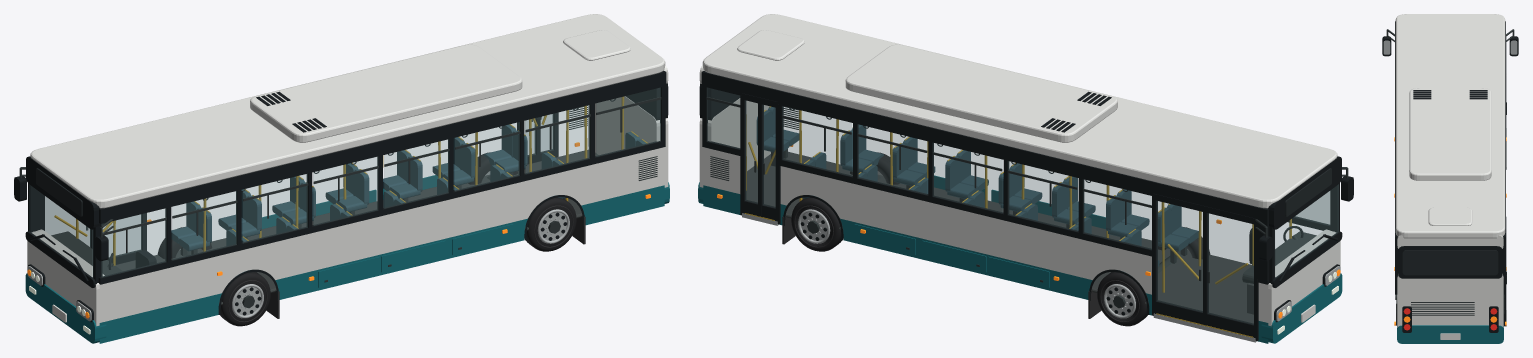
File: bus.glb
3 renders of one model, left to right at view 1: azimuth 30°, elevation 25°; view 2: azimuth 150°, elevation 25°; view 3: azimuth 270°, elevation 25°, orthographic. The views are drawn at different scales.
Visible parts, largest first — view 1: ivory, glass, gasket, teal, seat, trim, tire, yellow, floor, steel, rubber, sign; view 2: ivory, glass, gasket, seat, teal, floor, trim, tire, yellow, steel, rubber, sign; view 3: ivory, gasket, sign, teal, trim, steel, red, amber.
Boxes of the visible parts, <box> form: ivory: <box>27,14,668,326</box>; glass: <box>29,88,660,277</box>; gasket: <box>14,71,668,322</box>; teal: <box>25,175,669,343</box>; seat: <box>171,124,646,276</box>; trim: <box>19,97,661,308</box>; tire: <box>157,152,576,326</box>; yellow: <box>54,96,647,265</box>; floor: <box>115,149,598,305</box>; steel: <box>27,171,569,321</box>; rubber: <box>228,205,585,322</box>; sign: <box>36,168,82,216</box>; ivory: <box>699,14,1340,326</box>; glass: <box>707,88,1338,324</box>; gasket: <box>699,71,1353,340</box>; seat: <box>756,106,1252,276</box>; teal: <box>698,175,1342,343</box>; floor: <box>746,151,1253,323</box>; trim: <box>706,97,1348,308</box>; tire: <box>791,152,1210,326</box>; yellow: <box>744,106,1291,337</box>; steel: <box>742,171,1340,342</box>; rubber: <box>782,205,1139,322</box>; sign: <box>1285,168,1331,216</box>; ivory: <box>1395,14,1505,339</box>; gasket: <box>1382,21,1518,332</box>; sign: <box>1402,250,1498,275</box>; teal: <box>1397,325,1503,343</box>; trim: <box>1386,29,1514,315</box>; steel: <box>1383,40,1517,326</box>; red: <box>1403,308,1497,330</box>; amber: <box>1394,137,1506,325</box>.
Bounding box in the file's own units: 12.04 × 3.41 × 3.14.
